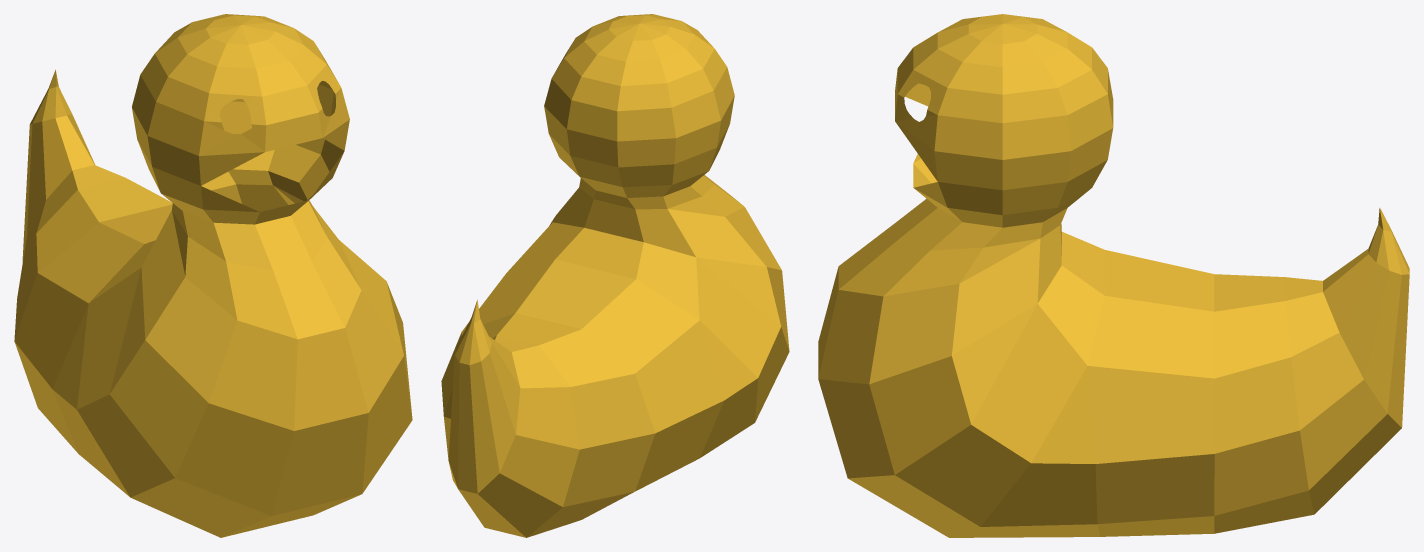
The model's file is Ducky_body.fbx.
3 renders of one model, left to right at view 1: azimuth 30°, elevation 25°; view 2: azimuth 150°, elevation 25°; view 3: azimuth 270°, elevation 25°, orthographic. The views are drawn at different scales.
Visible parts, largest first — view 1: Ducky_Body; view 2: Ducky_Body; view 3: Ducky_Body.
Part boxes in pixels (x1=…): Ducky_Body: x1=14, y1=14, x2=412, y2=537; Ducky_Body: x1=441, y1=14, x2=789, y2=537; Ducky_Body: x1=818, y1=14, x2=1409, y2=537.
Size of the model in its own units: 5.08 by 7.81 by 8.53.
